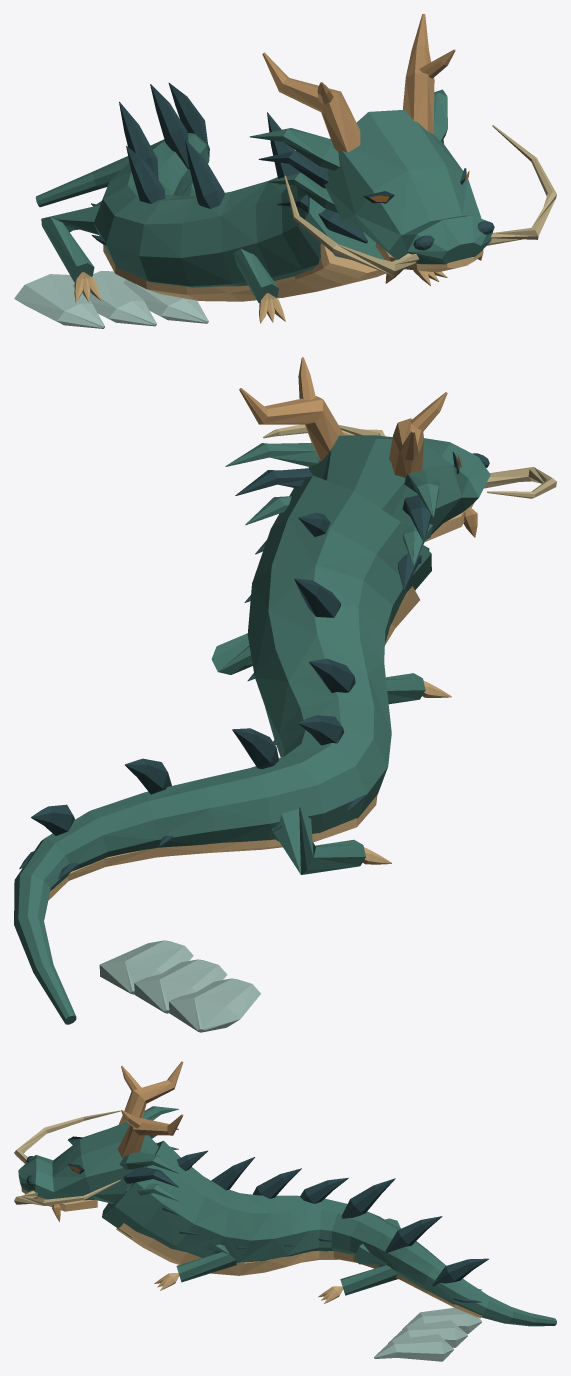
The model's file is terraces.glb.
The picture shows the model from 3 angles, top to bottom: view 1: azimuth 30°, elevation 25°; view 2: azimuth 150°, elevation 25°; view 3: azimuth 270°, elevation 25°; orthographic projection. The views are drawn at different scales.
Parts seen in each view (by area): view 1: Verdigris scales, Dark blue mane, Pale mountain cloud, Weathered ochre belly, Old gold antlers, Pale bronze whiskers; view 2: Verdigris scales, Dark blue mane, Pale mountain cloud, Old gold antlers, Weathered ochre belly, Pale bronze whiskers; view 3: Verdigris scales, Dark blue mane, Weathered ochre belly, Pale mountain cloud, Old gold antlers, Pale bronze whiskers.
Part boxes in pixels (x1,y1,x2,y2): Verdigris scales: (35,89,492,303); Dark blue mane: (91,83,494,250); Pale mountain cloud: (14,271,208,328); Weathered ochre belly: (74,243,482,323); Old gold antlers: (262,14,483,283); Pale bronze whiskers: (284,125,556,275); Verdigris scales: (14,435,490,1024); Dark blue mane: (19,452,489,878); Pale mountain cloud: (99,940,260,1032); Old gold antlers: (239,357,477,537); Weathered ochre belly: (48,502,474,900); Pale bronze whiskers: (263,424,556,498); Verdigris scales: (18,1106,556,1326); Dark blue mane: (26,1128,488,1302); Weathered ochre belly: (21,1188,481,1318); Pale mountain cloud: (374,1308,481,1361); Old gold antlers: (52,1061,183,1221); Pale bronze whiskers: (14,1110,120,1205).
Bounding box in the file's own units: 1.92 × 2.57 × 4.64.
